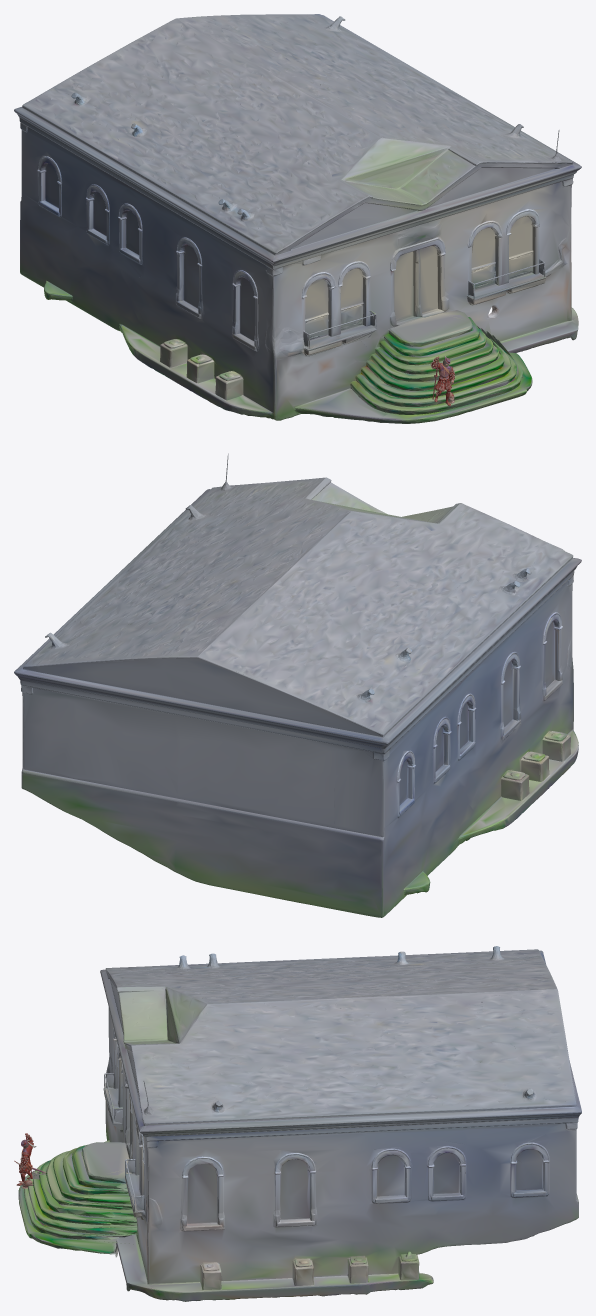
3 views of the same model, one above another, from view 1: azimuth 30°, elevation 25°; view 2: azimuth 150°, elevation 25°; view 3: azimuth 270°, elevation 25° (orthographic). The views are drawn at different scales.
Bounding box in the file's own units: 28.96 × 15.41 × 37.36.
